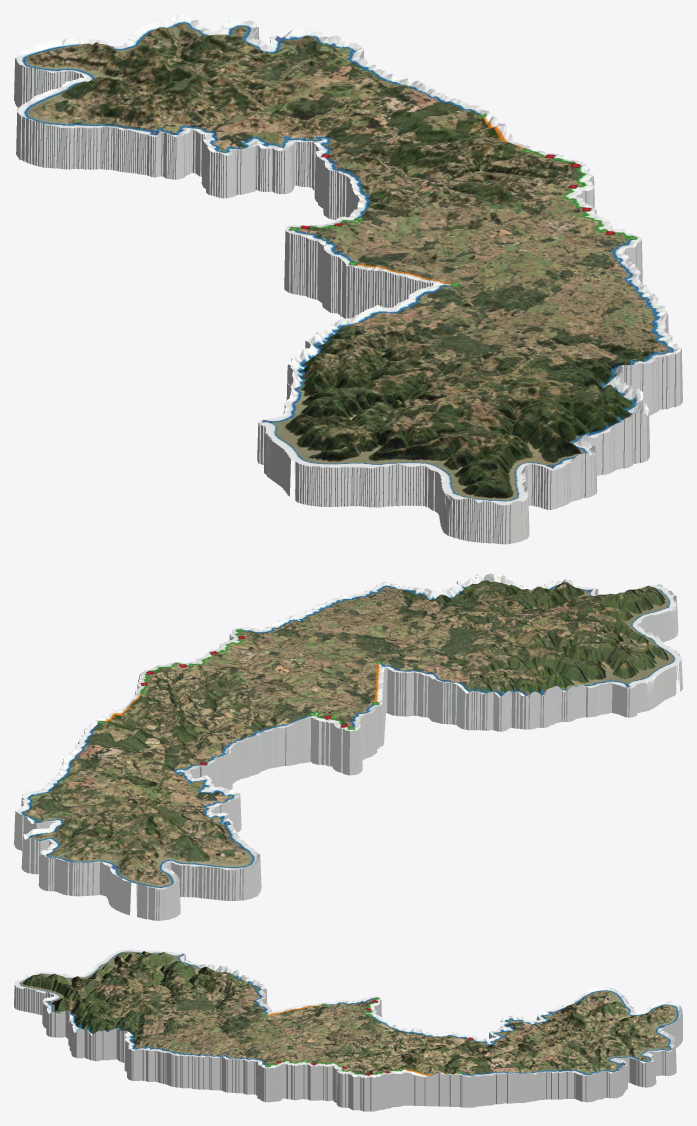
The picture shows the model from 3 angles, top to bottom: view 1: azimuth 30°, elevation 25°; view 2: azimuth 150°, elevation 25°; view 3: azimuth 270°, elevation 25°; orthographic projection. The views are drawn at different scales.
Bounding box in the file's own units: 1 × 0.1162 × 2.01.
Materials: 1 (1 with a texture image).
